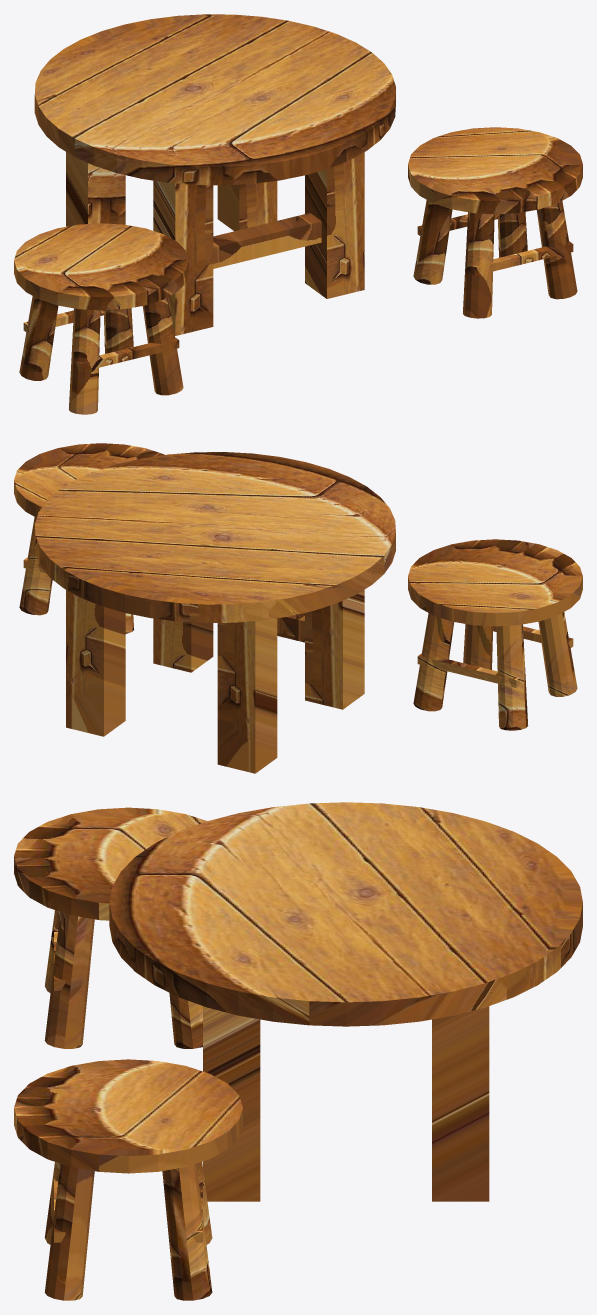
The model's file is v3-tavern-round-table.glb.
3 views of the same model, one above another, from view 1: azimuth 30°, elevation 25°; view 2: azimuth 150°, elevation 25°; view 3: azimuth 270°, elevation 25° (orthographic). The views are drawn at different scales.
Parts seen in each view (by area): view 1: v3-tavern-round-table; view 2: v3-tavern-round-table; view 3: v3-tavern-round-table.
Boxes of the visible parts, x1,y1,x2,y2 form: v3-tavern-round-table: (14,14,582,414); v3-tavern-round-table: (14,443,582,773); v3-tavern-round-table: (14,802,582,1300).
Size of the model in its own units: 2.16 by 0.697 by 1.49.
Materials: 1 (1 with a texture image).
